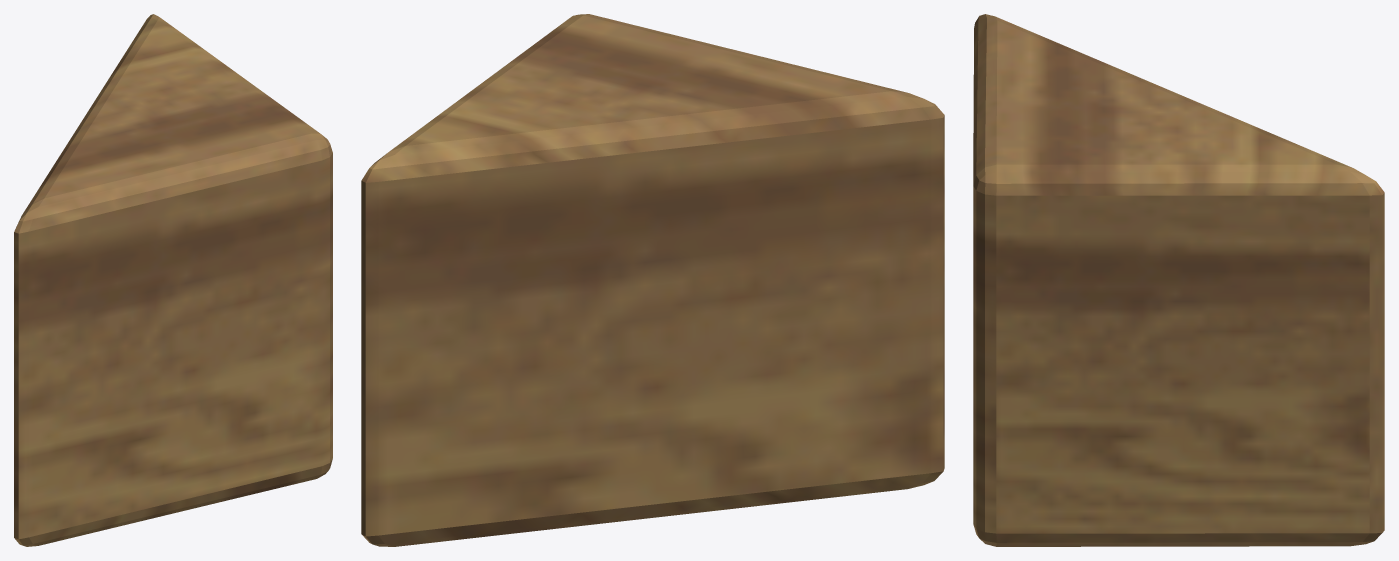
Rendered from DarkTriPrisim.fbx.
3 renders of one model, left to right at view 1: azimuth 30°, elevation 25°; view 2: azimuth 150°, elevation 25°; view 3: azimuth 270°, elevation 25°, orthographic. The views are drawn at different scales.
Visible parts, largest first — view 1: Cylinder.003; view 2: Cylinder.003; view 3: Cylinder.003.
Boxes of the visible parts, left/top/right/bottom form: Cylinder.003: left=14, top=14, right=332, bottom=546; Cylinder.003: left=361, top=14, right=944, bottom=546; Cylinder.003: left=973, top=14, right=1384, bottom=546.
Size of the model in its own units: 393 by 400 by 392.
